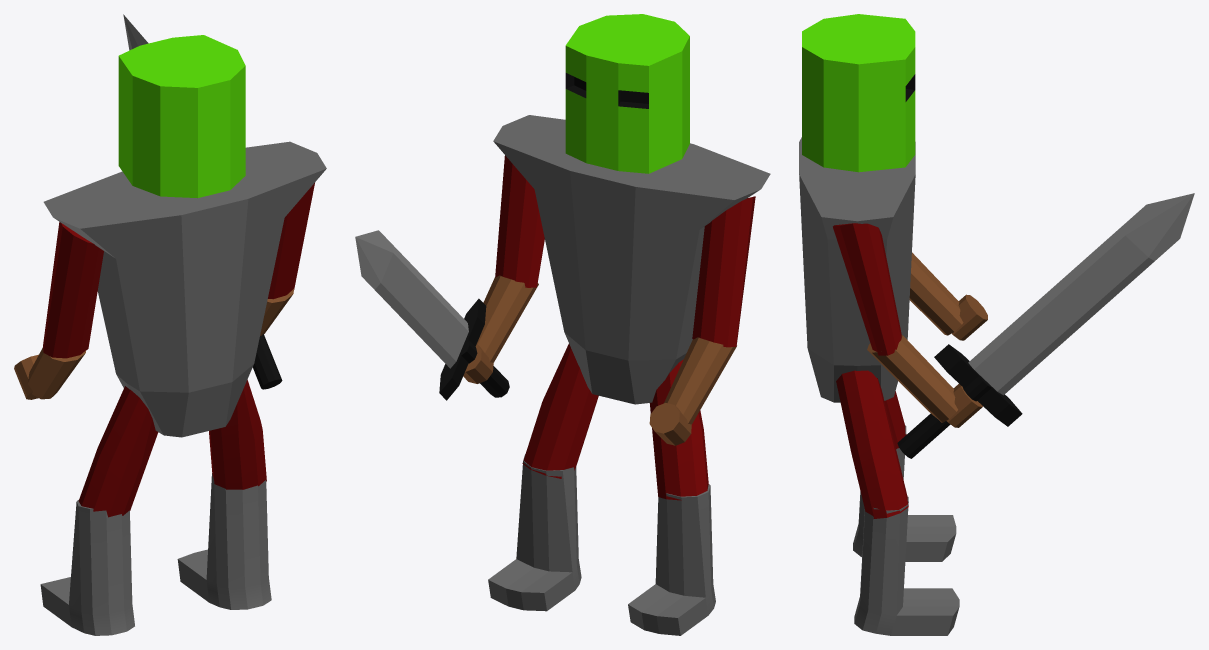
Rendered from Grunt_Barrack.fbx.
The picture shows the model from 3 angles, left to right: view 1: azimuth 30°, elevation 25°; view 2: azimuth 150°, elevation 25°; view 3: azimuth 270°, elevation 25°; orthographic projection. The views are drawn at different scales.
Parts seen in each view (by area): view 1: pCylinder34; view 2: pCylinder34; view 3: pCylinder34.
Part boxes in pixels (bbox=[...]): pCylinder34: bbox=[14, 14, 326, 635]; pCylinder34: bbox=[355, 14, 770, 635]; pCylinder34: bbox=[799, 14, 1194, 635].
Size of the model in its own units: 25.1 by 51.1 by 33.23.
